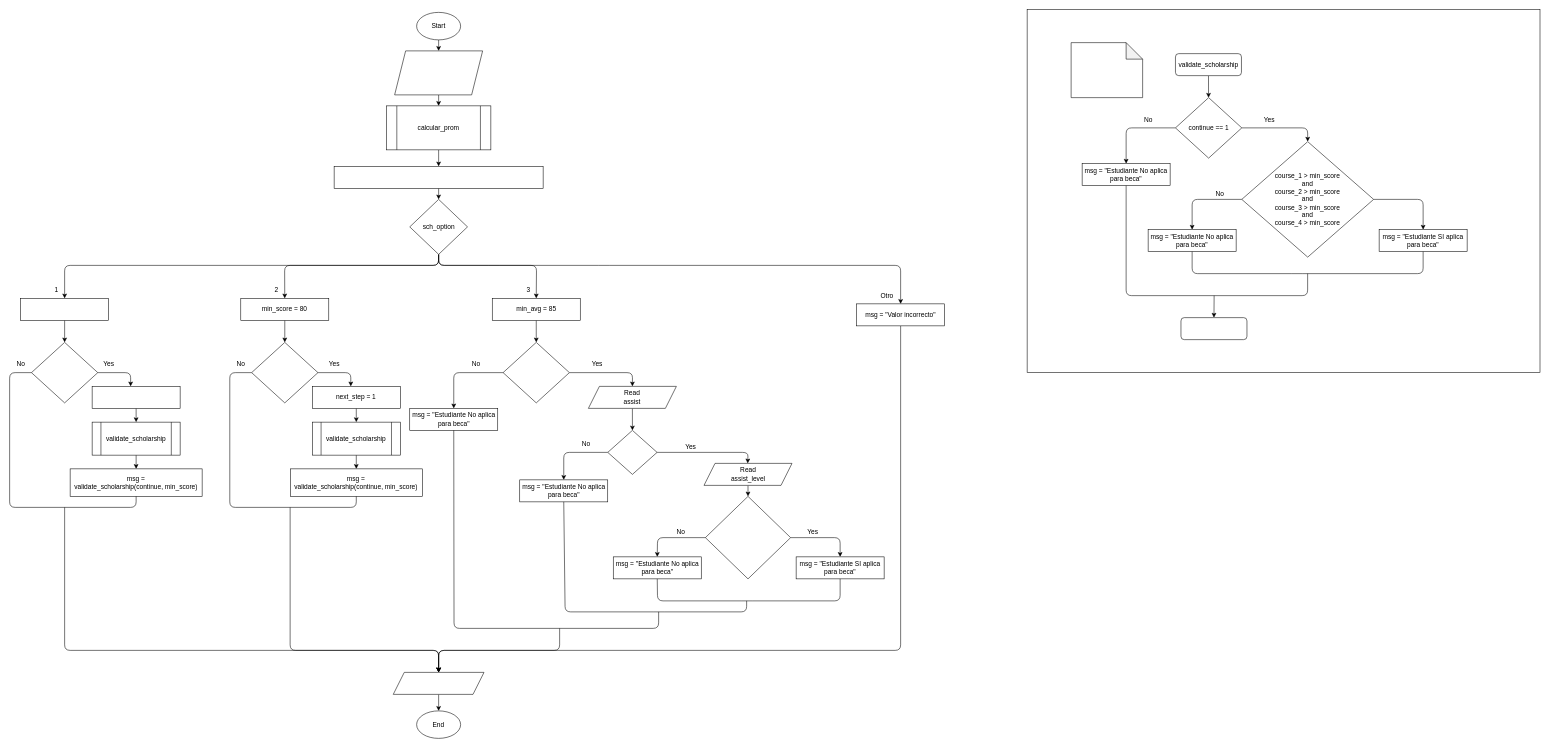
Image size: 1550x748. Some labels were removed from this diagram. The shapes that lost their labels are listed below. From the top down, each one's centre as x and y in pixels, then its label:
At (x=438, y=72): "Read course_1, course_2, course_3, course_4".
At (x=1107, y=70): "Function: validate_scholarship()".
At (x=438, y=177): "prom = calcular_prom(course_1, course_2, course_3, course_4)".
At (x=64, y=309): "min_score = 70".
At (x=1213, y=328): "Return msg".
At (x=64, y=372): "full_block == 1".
At (x=284, y=372): "avg >= 90".
At (x=536, y=372): "avg >= min_avg".
At (x=136, y=397): "next_step = full_block".
At (x=632, y=452): "assist == 1".
At (x=748, y=537): "assist_level == A and assist_level == B".
At (x=438, y=683): "Print msg".
